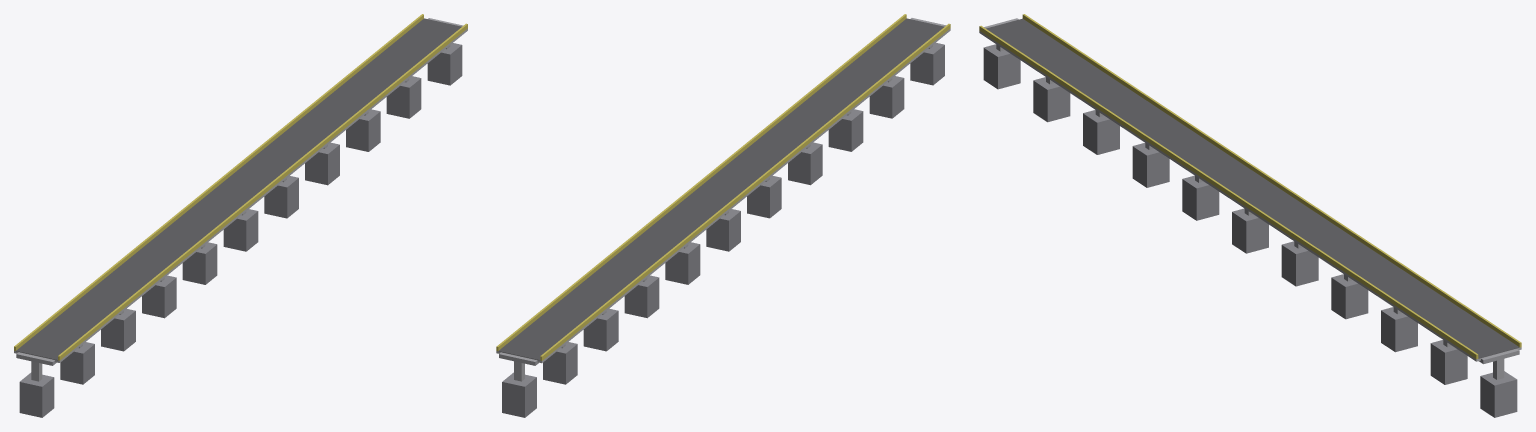
The model's file is owned-generated-model.glb.
3 views of the same model, side by side, from view 1: azimuth 30°, elevation 25°; view 2: azimuth 210°, elevation 25°; view 3: azimuth 270°, elevation 25° (orthographic). The views are drawn at different scales.
Parts seen in each view (by area): view 1: asphalt/asphalt_seg_1, barrier/barrier_right_seg_1, barrier/barrier_left_seg_1, foundation/foundation_1, deck/deck_seg_1, foundation/foundation_5, foundation/foundation_6, foundation/foundation_11, foundation/foundation_10, foundation/foundation_9, foundation/foundation_4, foundation/foundation_3 (+3 smaller); view 2: asphalt/asphalt_seg_1, barrier/barrier_left_seg_1, barrier/barrier_right_seg_1, foundation/foundation_11, deck/deck_seg_1, foundation/foundation_7, foundation/foundation_8, foundation/foundation_2, foundation/foundation_3, foundation/foundation_9, foundation/foundation_10, foundation/foundation_4 (+3 smaller); view 3: asphalt/asphalt_seg_1, barrier/barrier_right_seg_1, barrier/barrier_left_seg_1, deck/deck_seg_1, foundation/foundation_11, foundation/foundation_1, foundation/foundation_7, foundation/foundation_10, foundation/foundation_4, foundation/foundation_5, foundation/foundation_8, foundation/foundation_2 (+3 smaller).
Part boxes in pixels (<box>): asphalt/asphalt_seg_1: <box>16,18,461,360</box>; barrier/barrier_right_seg_1: <box>58,23,467,360</box>; barrier/barrier_left_seg_1: <box>14,14,423,350</box>; foundation/foundation_1: <box>19,372,54,417</box>; deck/deck_seg_1: <box>14,28,467,362</box>; foundation/foundation_5: <box>182,242,217,284</box>; foundation/foundation_6: <box>223,209,258,251</box>; foundation/foundation_11: <box>427,43,462,85</box>; foundation/foundation_10: <box>386,76,421,118</box>; foundation/foundation_9: <box>346,109,380,151</box>; foundation/foundation_4: <box>142,275,176,318</box>; foundation/foundation_3: <box>101,308,135,351</box>; asphalt/asphalt_seg_1: <box>498,18,944,360</box>; barrier/barrier_left_seg_1: <box>540,23,950,360</box>; barrier/barrier_right_seg_1: <box>496,14,906,351</box>; foundation/foundation_11: <box>502,372,536,417</box>; deck/deck_seg_1: <box>496,28,950,363</box>; foundation/foundation_7: <box>665,242,700,284</box>; foundation/foundation_8: <box>624,275,659,318</box>; foundation/foundation_2: <box>869,76,904,118</box>; foundation/foundation_3: <box>828,109,863,151</box>; foundation/foundation_9: <box>583,308,618,351</box>; foundation/foundation_10: <box>543,342,577,384</box>; foundation/foundation_4: <box>788,142,822,185</box>; asphalt/asphalt_seg_1: <box>986,18,1519,358</box>; barrier/barrier_right_seg_1: <box>979,25,1478,359</box>; barrier/barrier_left_seg_1: <box>1022,14,1521,347</box>; deck/deck_seg_1: <box>979,31,1521,361</box>; foundation/foundation_11: <box>1480,371,1517,417</box>; foundation/foundation_1: <box>983,44,1020,89</box>; foundation/foundation_7: <box>1281,241,1318,286</box>; foundation/foundation_10: <box>1430,340,1467,384</box>; foundation/foundation_4: <box>1132,143,1169,187</box>; foundation/foundation_5: <box>1182,175,1219,220</box>; foundation/foundation_8: <box>1331,274,1368,319</box>; foundation/foundation_2: <box>1033,77,1070,122</box>.
Size of the model in its own units: 182 by 15.2 by 121.
